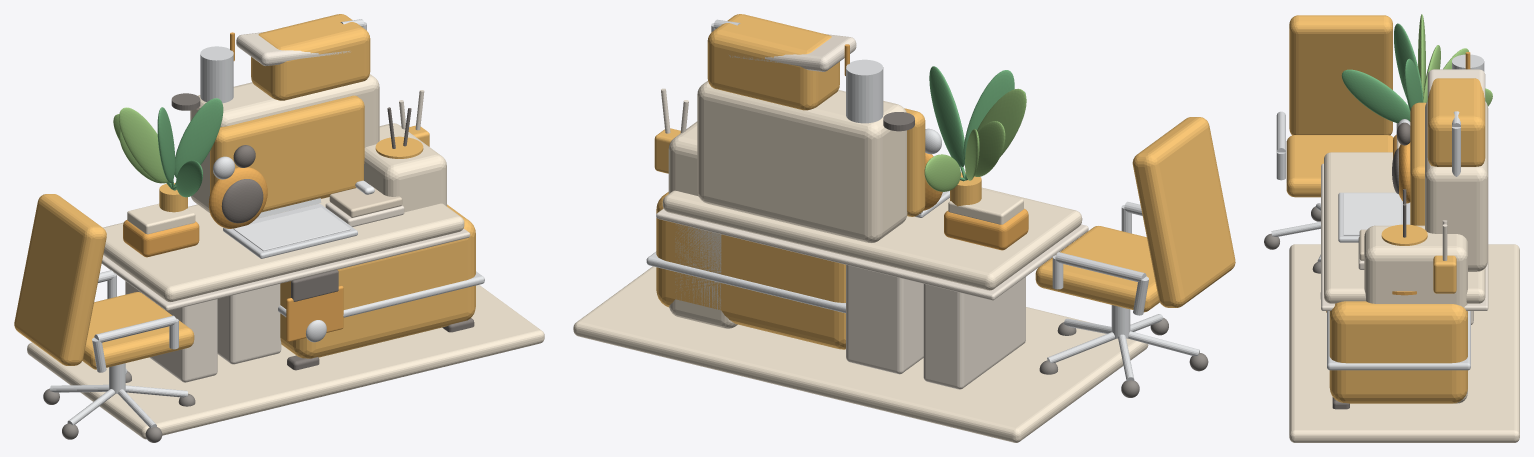
The model's file is desk_scene.glb.
The picture shows the model from 3 angles, left to right: view 1: azimuth 30°, elevation 25°; view 2: azimuth 150°, elevation 25°; view 3: azimuth 270°, elevation 25°; orthographic projection. The views are drawn at different scales.
Visible parts, largest first — view 1: floor_1, desktop_2, under_unit_7, machine_face_16, chair_back_60, printer_body_21, chair_seat_59, machine_frame_15, leg_mid_5, tower_6, desk_rim_3, leg_left_4 (+20 smaller); view 2: floor_1, machine_frame_15, under_unit_7, chair_back_60, desktop_2, printer_body_21, leg_left_4, leg_mid_5, chair_seat_59, tower_6, desk_rim_3, thermos_25 (+13 smaller); view 3: floor_1, under_unit_7, chair_back_60, desktop_2, tower_6, machine_frame_15, printer_body_21, chair_seat_59, laptop_keys_29, leaf_51, machine_face_16, under_band_8 (+17 smaller).
Part boxes in pixels (bbox=[...]): floor_1: bbox=[27, 285, 544, 439]; desktop_2: bbox=[103, 197, 464, 302]; under_unit_7: bbox=[280, 204, 475, 358]; machine_face_16: bbox=[210, 95, 364, 214]; chair_back_60: bbox=[14, 194, 106, 365]; printer_body_21: bbox=[251, 14, 370, 100]; chair_seat_59: bbox=[82, 292, 194, 369]; machine_frame_15: bbox=[190, 74, 379, 213]; leg_mid_5: bbox=[217, 284, 281, 364]; tower_6: bbox=[364, 123, 446, 212]; desk_rim_3: bbox=[101, 228, 470, 310]; leg_left_4: bbox=[125, 281, 217, 382]; floor_1: bbox=[573, 266, 1148, 442]; machine_frame_15: bbox=[697, 81, 907, 242]; under_unit_7: bbox=[656, 192, 845, 349]; chair_back_60: bbox=[1132, 117, 1235, 307]; desktop_2: bbox=[662, 187, 1082, 290]; printer_body_21: bbox=[707, 14, 839, 110]; leg_left_4: bbox=[923, 277, 1025, 389]; leg_mid_5: bbox=[846, 265, 923, 374]; chair_seat_59: bbox=[1035, 226, 1159, 312]; tower_6: bbox=[668, 121, 737, 328]; desk_rim_3: bbox=[656, 208, 1088, 300]; thermos_25: bbox=[846, 59, 883, 123]; floor_1: bbox=[1289, 244, 1519, 442]; under_unit_7: bbox=[1329, 301, 1467, 403]; chair_back_60: bbox=[1289, 15, 1392, 135]; desktop_2: bbox=[1324, 152, 1485, 303]; tower_6: bbox=[1364, 225, 1467, 403]; machine_frame_15: bbox=[1425, 101, 1488, 271]; printer_body_21: bbox=[1427, 78, 1485, 166]; chair_seat_59: bbox=[1286, 135, 1393, 197]; laptop_keys_29: bbox=[1343, 193, 1401, 235]; leaf_51: bbox=[1341, 69, 1410, 123]; machine_face_16: bbox=[1410, 102, 1426, 225]; under_band_8: bbox=[1327, 311, 1470, 370].
Bounding box in the file's own units: 2.34 × 1.38 × 1.11.
